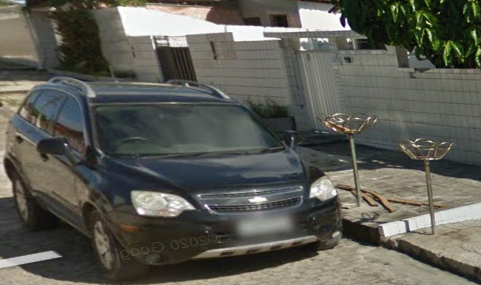car: (3, 64, 346, 281)
